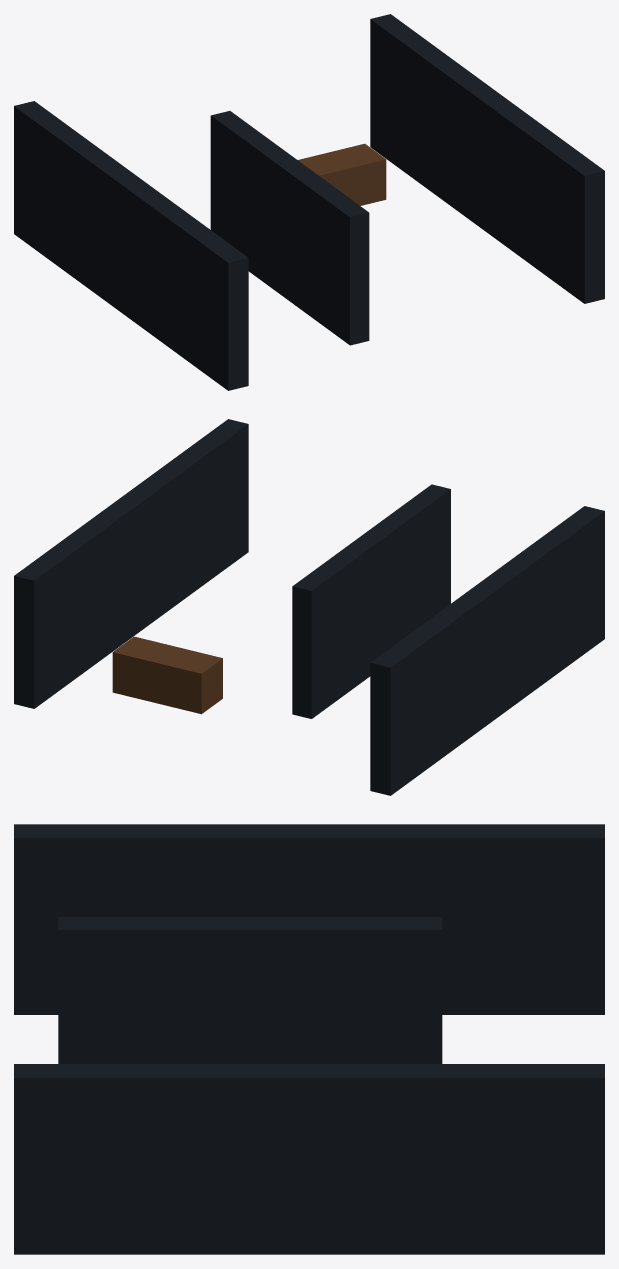
File: module.nested_small_room.glb
The picture shows the model from 3 angles, top to bottom: view 1: azimuth 30°, elevation 25°; view 2: azimuth 150°, elevation 25°; view 3: azimuth 270°, elevation 25°; orthographic projection. The views are drawn at different scales.
Parts seen in each view (by area): view 1: outer_left_wall, outer_right_wall, inner_partition, inner_cover; view 2: outer_left_wall, outer_right_wall, inner_partition, inner_cover; view 3: outer_right_wall, outer_left_wall, inner_partition.
Boxes of the visible parts, box(x1,y1,x2,y2) form: outer_left_wall: box(14, 101, 248, 390); outer_right_wall: box(370, 14, 604, 303); inner_partition: box(210, 111, 369, 345); inner_cover: box(298, 143, 386, 205); outer_left_wall: box(370, 506, 604, 795); outer_right_wall: box(14, 419, 248, 708); inner_partition: box(292, 484, 450, 718); inner_cover: box(112, 636, 222, 714); outer_right_wall: box(14, 1064, 604, 1254); outer_left_wall: box(14, 824, 604, 1014); inner_partition: box(58, 917, 442, 1063).
Bounding box in the file's own units: 10.15 × 3.3 × 10.
